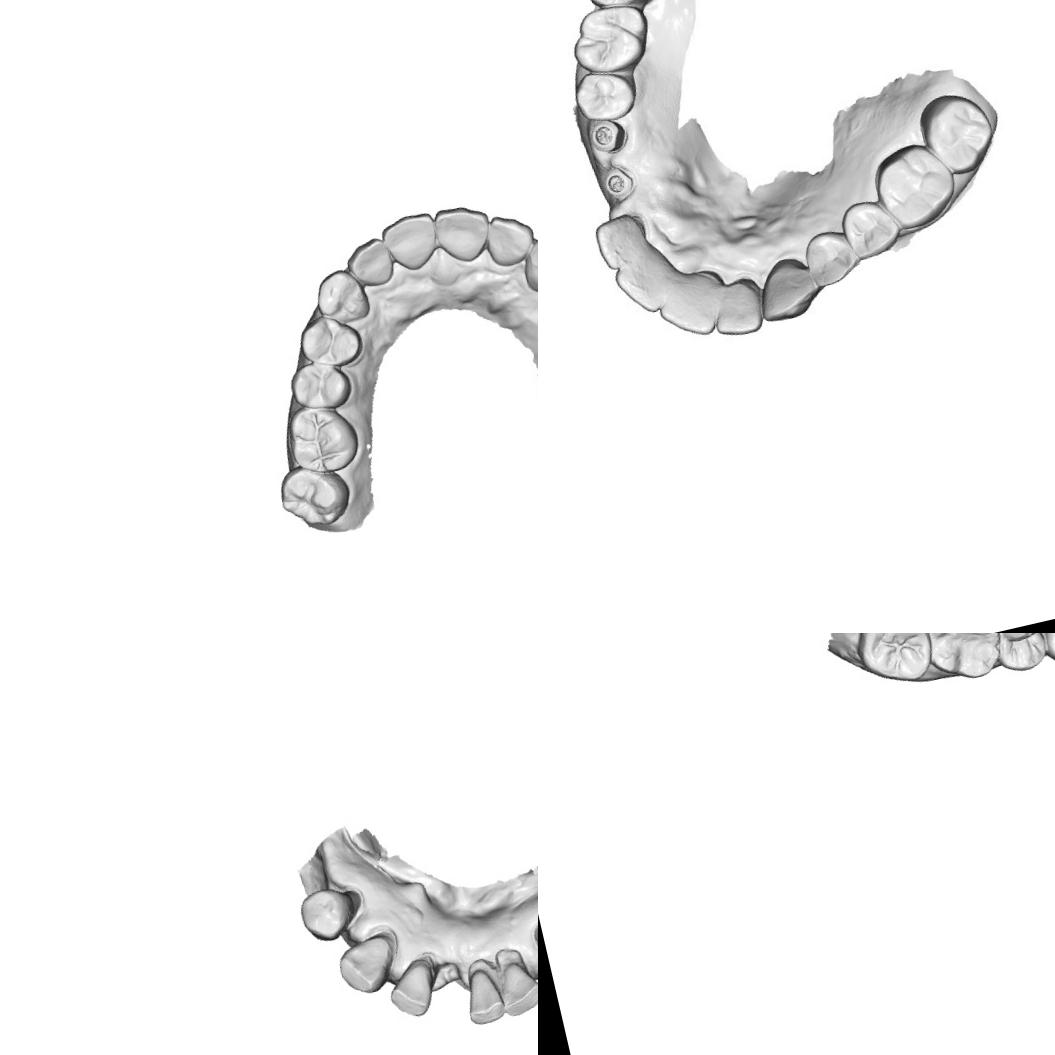canine: (750, 250, 824, 327), (331, 930, 402, 1000), (308, 264, 374, 330), (515, 229, 538, 296)
implant: (584, 116, 624, 156), (600, 162, 638, 202)
incisor: (652, 279, 724, 346), (430, 198, 498, 268), (591, 210, 659, 277), (377, 208, 443, 277), (612, 255, 674, 319), (707, 278, 769, 340), (382, 959, 442, 1023), (480, 207, 538, 271), (457, 963, 509, 1029), (341, 233, 397, 292), (492, 955, 538, 1020)
molar: (868, 134, 964, 236), (915, 87, 1000, 182), (280, 396, 364, 482), (563, 0, 654, 79), (272, 455, 357, 536), (848, 633, 941, 691), (917, 633, 1008, 686)
premolar: (292, 307, 368, 375), (836, 194, 906, 264), (284, 354, 356, 419), (570, 64, 642, 128), (294, 881, 360, 948), (801, 226, 863, 292), (983, 633, 1052, 678)
